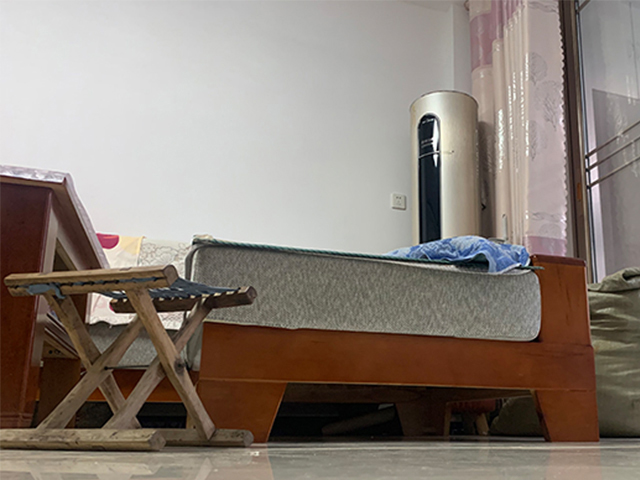curtain: (478, 1, 571, 258)
sofa: (182, 234, 602, 446)
stool: (1, 264, 257, 453)
